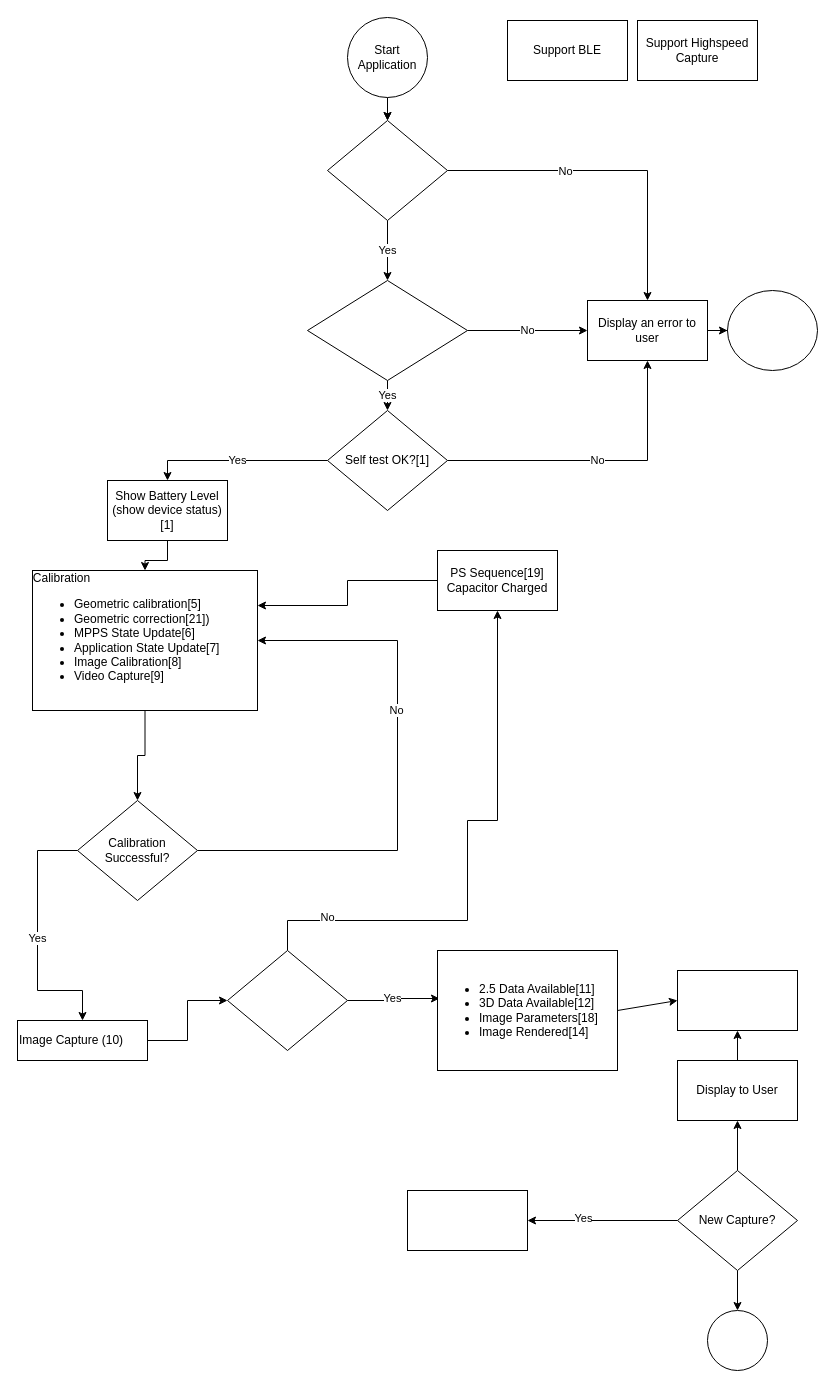
The diagram is 835 pixels wide and 1388 high, and some of its shapes have lost their labels. Each missing label, with the box of its shape:
End: (706, 1310, 768, 1370)
Image Store[20]: (676, 970, 798, 1030)
Image Successful?: (226, 950, 348, 1050)
Is connected to Bluetooth device?[1]: (306, 280, 468, 380)
Return to Calibration or Image Capture Activity: (406, 1190, 528, 1250)
Stop: (726, 290, 818, 370)
System supports minimum hardware requirements?: (326, 120, 448, 220)
